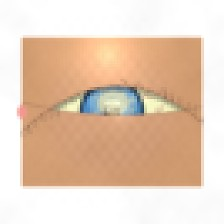corneal_ulcer: (88, 83, 139, 123)
